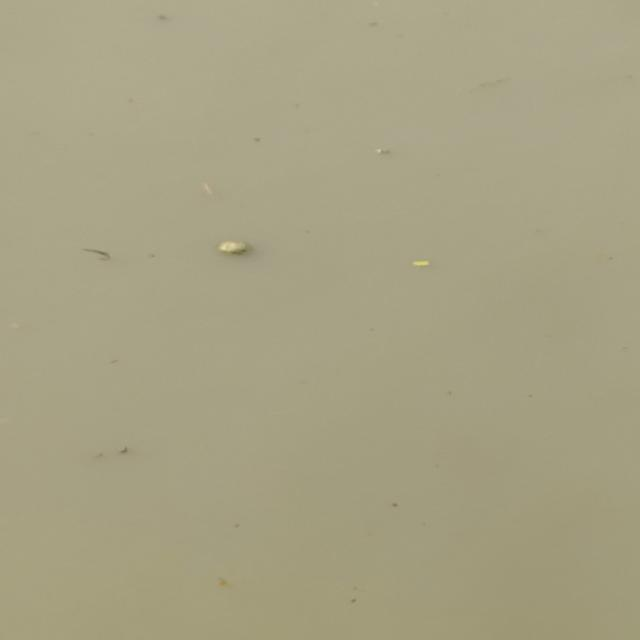Organic Debris: (93, 435, 148, 464), (73, 242, 120, 268), (193, 172, 231, 202), (370, 142, 406, 162)
Plastic: (209, 232, 258, 256), (403, 256, 438, 272)
